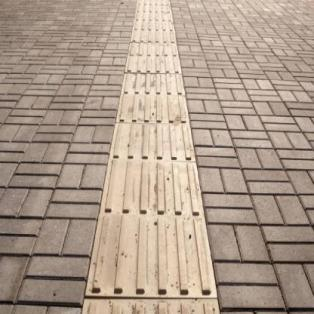Podoctatil: (82, 2, 220, 307)
